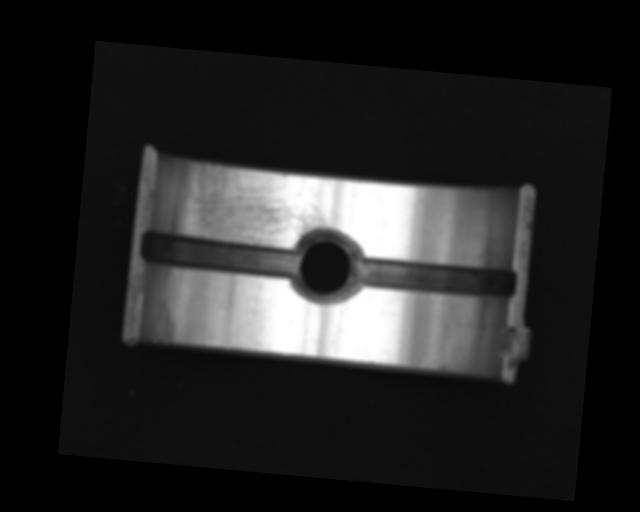gap: (138, 231, 303, 280), (353, 253, 517, 301)
hole: (289, 227, 366, 306)
scratch: (175, 160, 334, 252)
